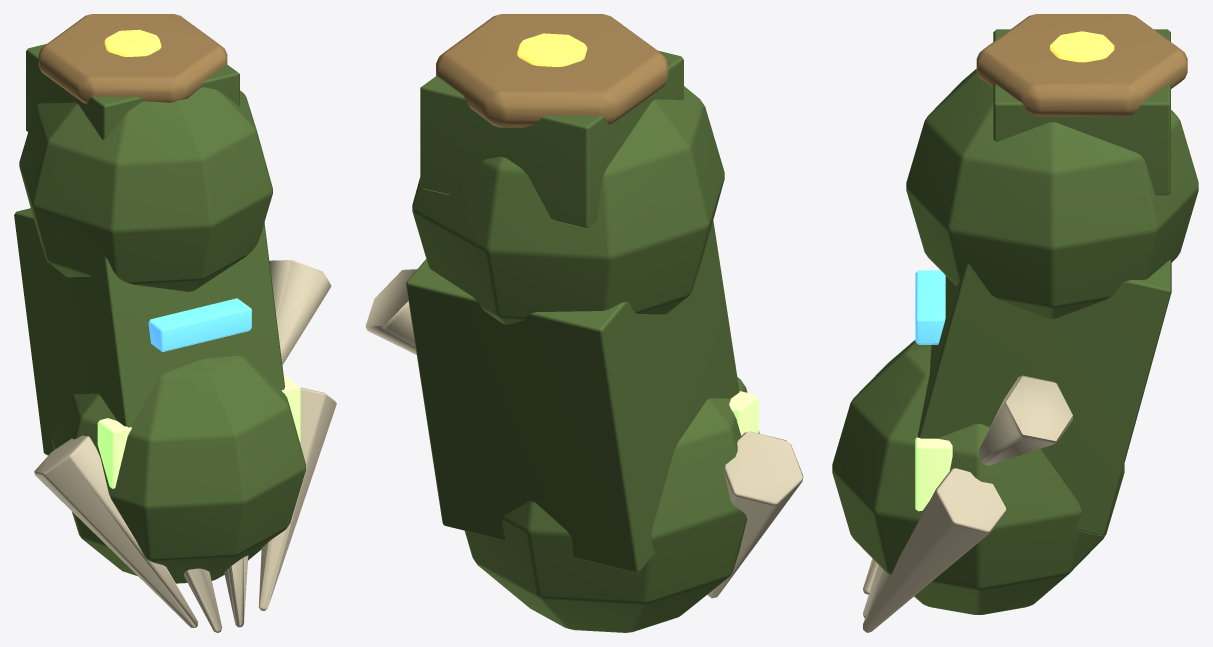
Rendered from thicket_fang_arm_goreclaw.glb.
3 renders of one model, left to right at view 1: azimuth 30°, elevation 25°; view 2: azimuth 150°, elevation 25°; view 3: azimuth 270°, elevation 25°, orthographic. The views are drawn at different scales.
Visible parts, largest first — view 1: thicket_fang_arm_goreclaw; view 2: thicket_fang_arm_goreclaw; view 3: thicket_fang_arm_goreclaw.
Part boxes in pixels (x1,y1,x2,y2): thicket_fang_arm_goreclaw: (14, 14, 336, 632); thicket_fang_arm_goreclaw: (365, 14, 803, 632); thicket_fang_arm_goreclaw: (832, 14, 1198, 632).
Bounding box in the file's own units: 0.554 × 0.8655 × 0.4945.
Materials: 1 (1 with a texture image).
